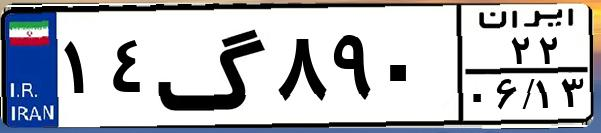0: (385, 28, 445, 110), (470, 70, 495, 125)
1: (57, 26, 110, 100), (535, 70, 560, 125)
2: (537, 27, 568, 80), (508, 27, 537, 80)
3: (560, 70, 590, 125)
4: (110, 28, 156, 98)
6: (495, 70, 520, 125)
8: (270, 28, 330, 110)
9: (330, 28, 385, 110)
گ: (156, 12, 270, 120)
